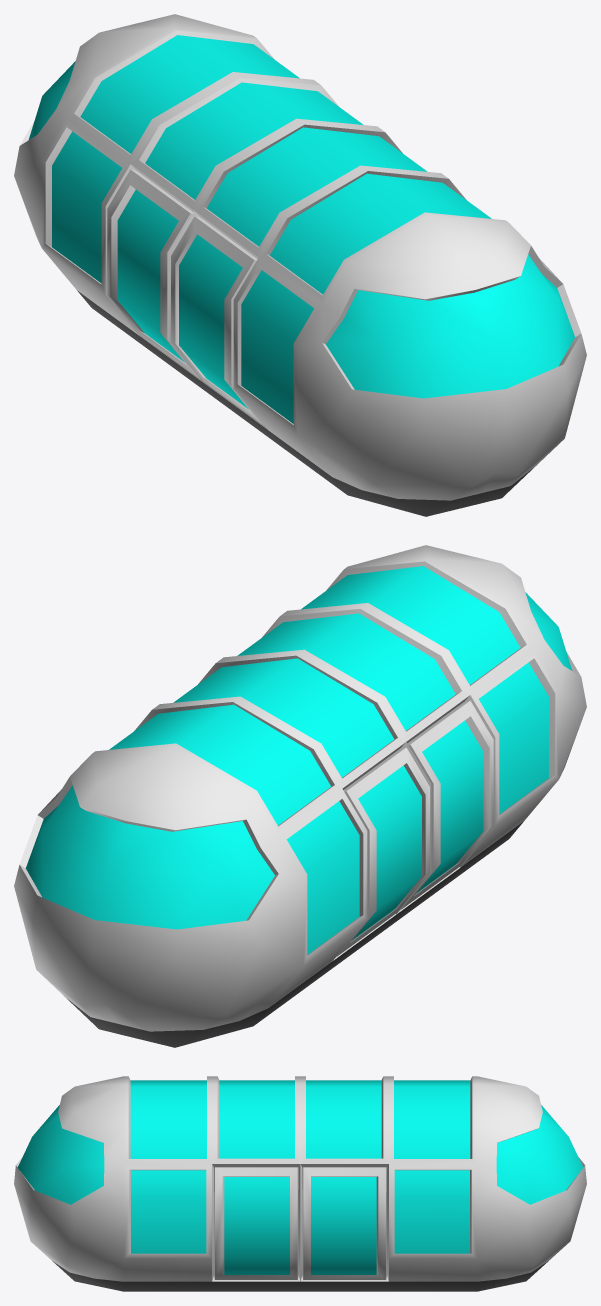
The model's file is Carriage.glb.
3 renders of one model, top to bottom at view 1: azimuth 30°, elevation 25°; view 2: azimuth 150°, elevation 25°; view 3: azimuth 270°, elevation 25°, orthographic. The views are drawn at different scales.
Visible parts, largest first — view 1: Icosphere.001; view 2: Icosphere.001; view 3: Icosphere.001.
Part boxes in pixels (<box>): Icosphere.001: <box>14,14,586,516</box>; Icosphere.001: <box>14,545,586,1047</box>; Icosphere.001: <box>14,1076,586,1291</box>.
Bounding box in the file's own units: 1.93 × 2 × 5.22.
